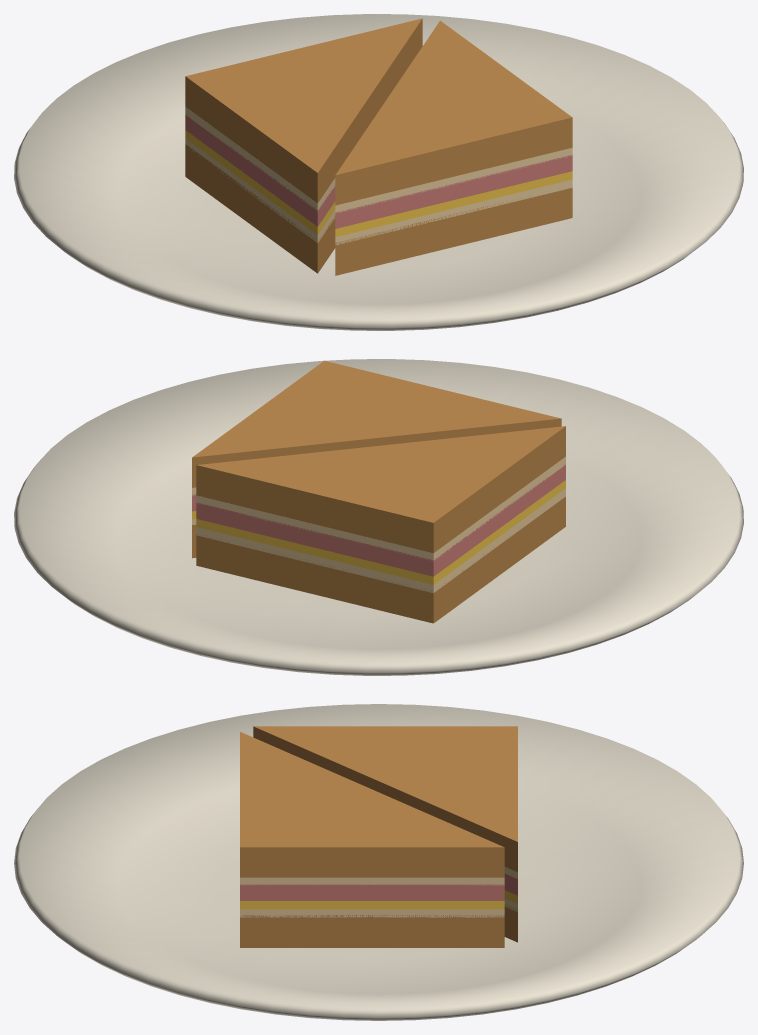
Rendered from universal-sandwich-plate.glb.
3 views of the same model, one above another, from view 1: azimuth 30°, elevation 25°; view 2: azimuth 150°, elevation 25°; view 3: azimuth 270°, elevation 25° (orthographic).
Visible parts, largest first — view 1: Ceramic plate, Sandwich top bread, Sandwich top bread.001, Sandwich lower bread, Sandwich lower bread.001, Sandwich filling, Sandwich filling.001, Sandwich cheese, Bread crumb face, Sandwich upper crumb, Sandwich cheese.001, Sandwich upper crumb.001 (+1 smaller); view 2: Ceramic plate, Sandwich top bread.001, Sandwich top bread, Sandwich lower bread.001, Sandwich filling.001, Sandwich cheese.001, Bread crumb face.001, Sandwich upper crumb.001; view 3: Ceramic plate, Sandwich top bread, Sandwich top bread.001, Sandwich lower bread, Sandwich filling, Sandwich cheese, Bread crumb face, Sandwich upper crumb.
Part boxes in pixels (bbox=[...]): Ceramic plate: bbox=[14, 14, 743, 330]; Sandwich top bread: bbox=[335, 20, 572, 205]; Sandwich top bread.001: bbox=[185, 18, 422, 203]; Sandwich lower bread: bbox=[335, 187, 572, 275]; Sandwich lower bread.001: bbox=[185, 144, 335, 273]; Sandwich filling: bbox=[335, 154, 572, 228]; Sandwich filling.001: bbox=[185, 114, 335, 226]; Sandwich cheese: bbox=[335, 171, 572, 237]; Bread crumb face: bbox=[335, 179, 572, 245]; Sandwich upper crumb: bbox=[335, 148, 572, 213]; Sandwich cheese.001: bbox=[185, 130, 335, 234]; Sandwich upper crumb.001: bbox=[185, 107, 335, 211]; Ceramic plate: bbox=[14, 359, 743, 675]; Sandwich top bread.001: bbox=[196, 426, 565, 553]; Sandwich top bread: bbox=[192, 360, 561, 487]; Sandwich lower bread.001: bbox=[196, 496, 565, 623]; Sandwich filling.001: bbox=[196, 464, 565, 576]; Sandwich cheese.001: bbox=[196, 480, 565, 584]; Bread crumb face.001: bbox=[196, 488, 565, 593]; Sandwich upper crumb.001: bbox=[196, 456, 565, 560]; Ceramic plate: bbox=[14, 704, 743, 1020]; Sandwich top bread: bbox=[240, 732, 504, 877]; Sandwich top bread.001: bbox=[253, 726, 517, 872]; Sandwich lower bread: bbox=[240, 915, 504, 947]; Sandwich filling: bbox=[240, 884, 504, 900]; Sandwich cheese: bbox=[240, 901, 504, 909]; Bread crumb face: bbox=[240, 909, 504, 917]; Sandwich upper crumb: bbox=[240, 877, 504, 885].
Bounding box in the file's own units: 0.24 × 0.043 × 0.24.
Materials: 6 (6 with a texture image).
